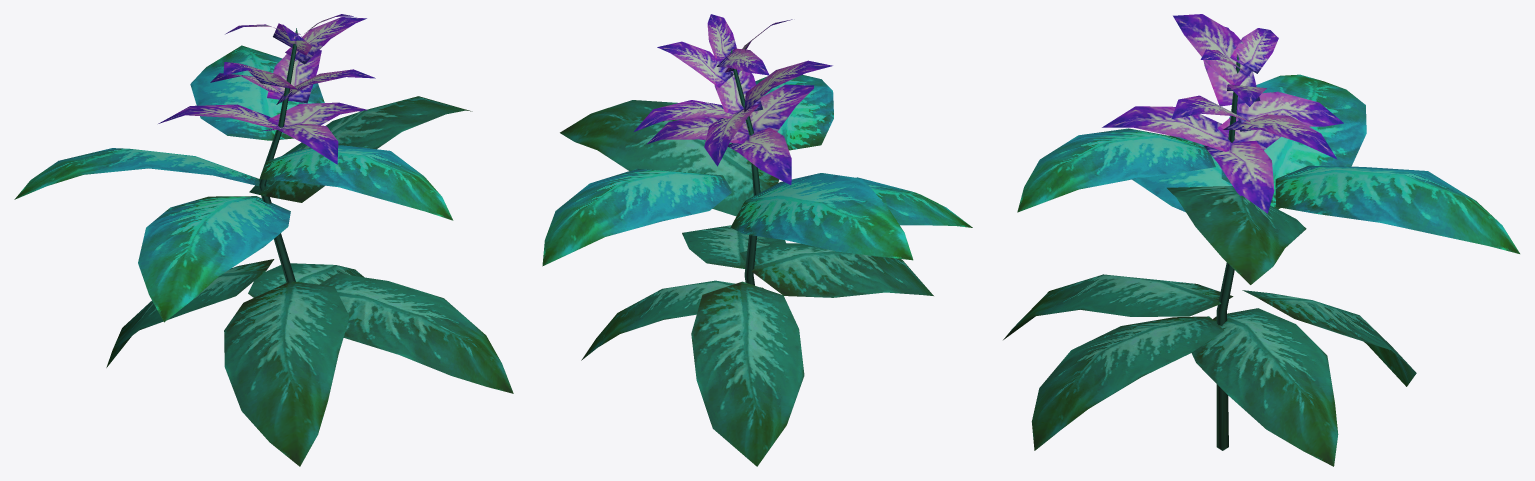
Rendered from e_grass.glb.
3 renders of one model, left to right at view 1: azimuth 30°, elevation 25°; view 2: azimuth 150°, elevation 25°; view 3: azimuth 270°, elevation 25°, orthographic. The views are drawn at different scales.
Visible parts, largest first — view 1: E_Grass; view 2: E_Grass; view 3: E_Grass.
Part boxes in pixels (left/top/right/bottom): E_Grass: left=14, top=14, right=513, bottom=466; E_Grass: left=542, top=14, right=972, bottom=466; E_Grass: left=1003, top=14, right=1519, bottom=466.
Bounding box in the file's own units: 2.33 × 2.2 × 2.37.
Materials: 1 (1 with a texture image).
